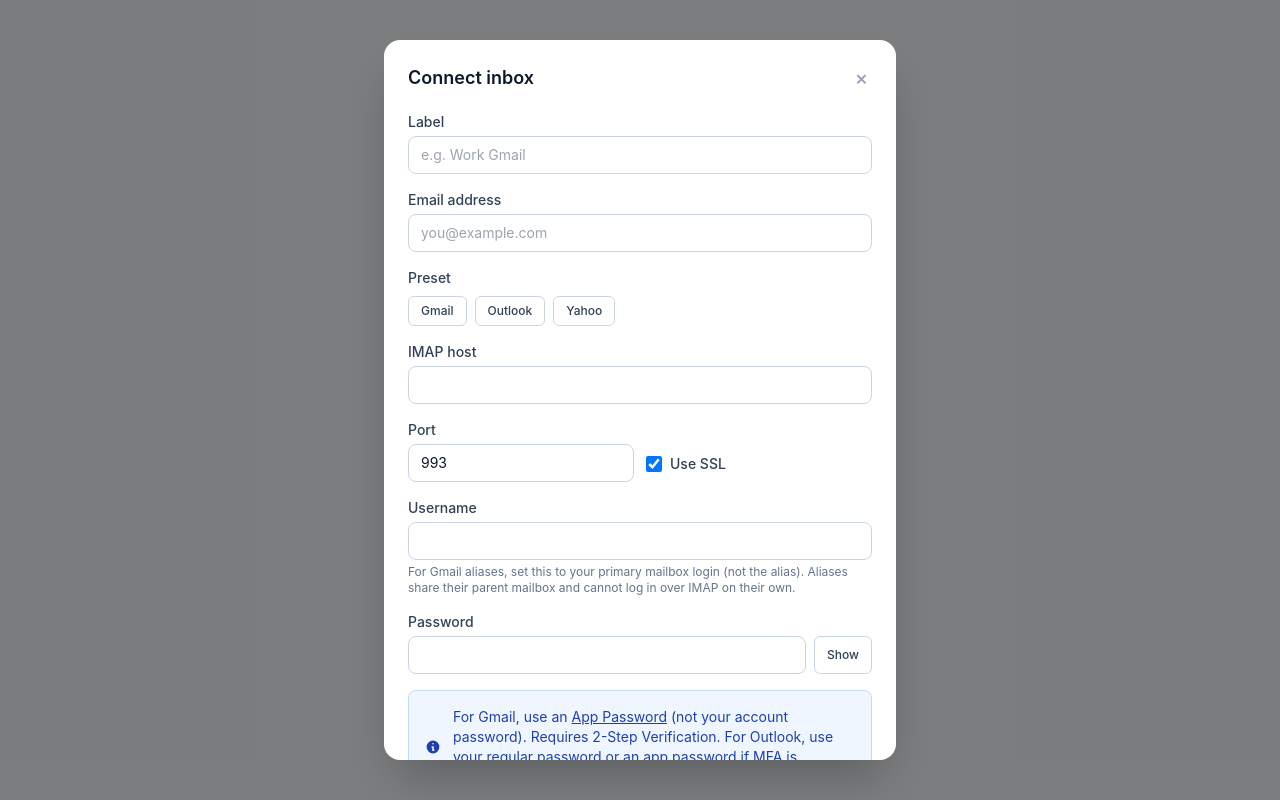
ConnectInboxModal › Gmail preset fills imap_host and port
Click the button named "use gmail preset" at (437, 311), box [408, 296, 466, 326]
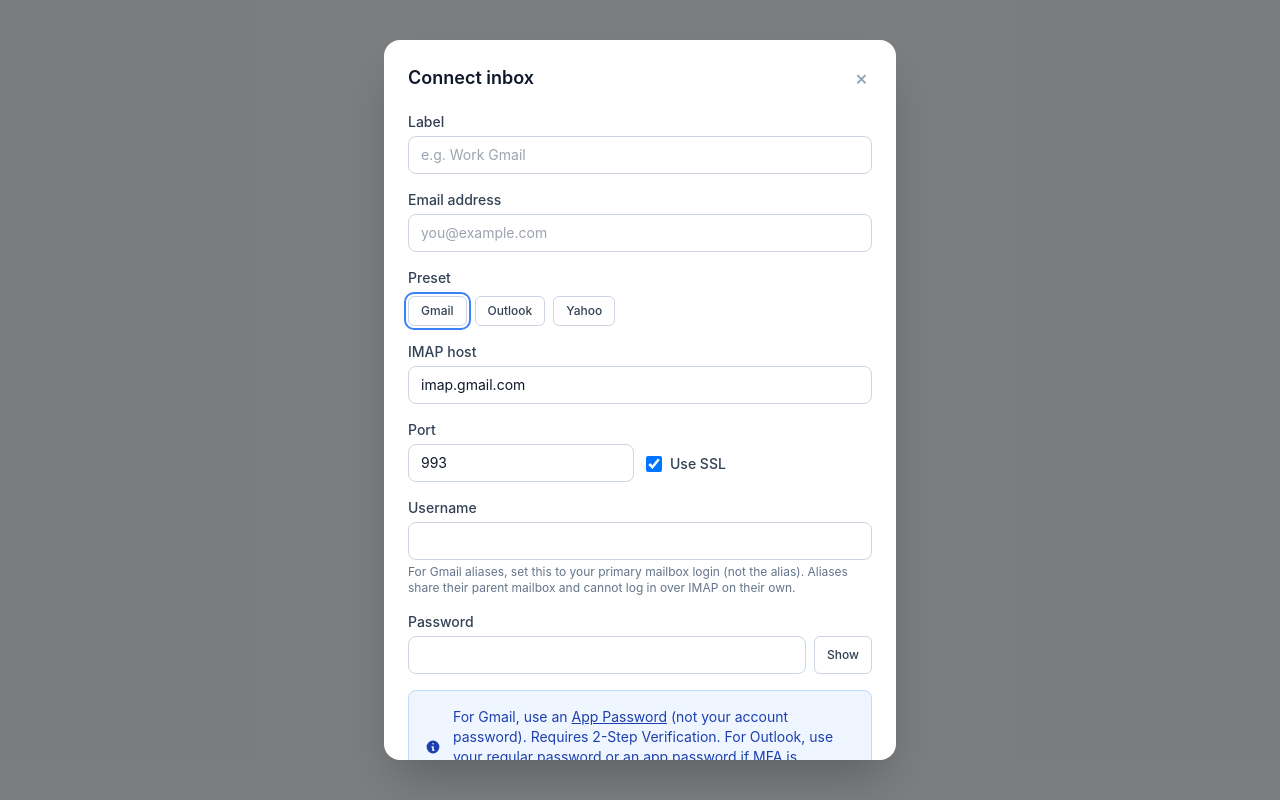
Expected: the number field labelled "Port" holds "993", [408, 444, 634, 482]
Expected: the field labelled "IMAP host" holds "imap.gmail.com", [408, 366, 872, 404]
